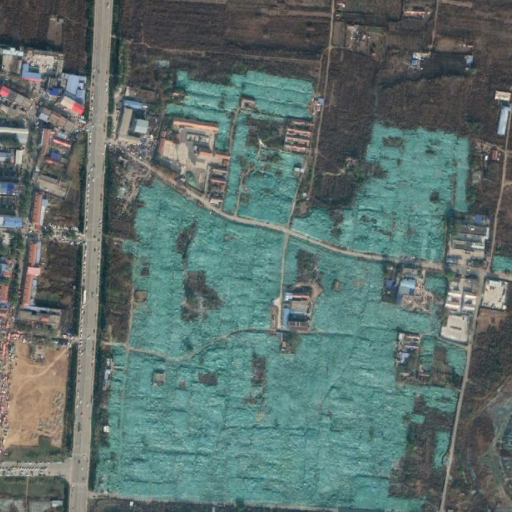cw: (104, 71, 468, 509)
